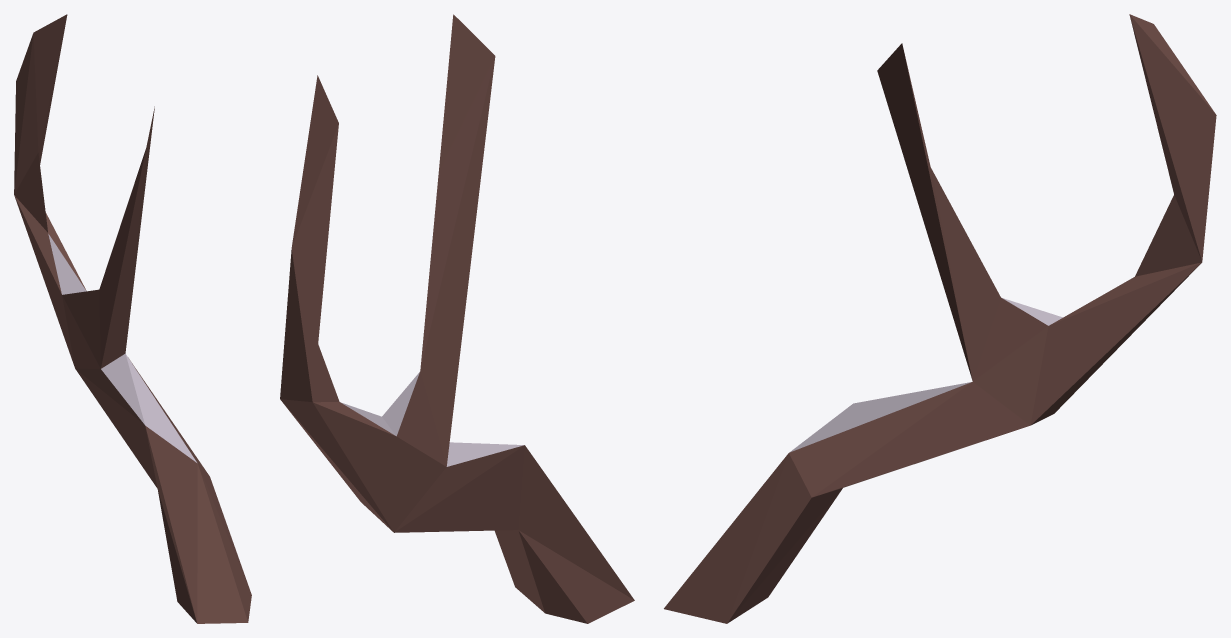
The model's file is Willow_Dead_Snow_3.lod3.glb.
3 renders of one model, left to right at view 1: azimuth 30°, elevation 25°; view 2: azimuth 150°, elevation 25°; view 3: azimuth 270°, elevation 25°, orthographic. The views are drawn at different scales.
Parts seen in each view (by area): view 1: Willow_Dead_Snow_3; view 2: Willow_Dead_Snow_3; view 3: Willow_Dead_Snow_3.
Boxes of the visible parts, x1,y1,x2,y2 form: Willow_Dead_Snow_3: (14,14,251,623); Willow_Dead_Snow_3: (280,14,634,623); Willow_Dead_Snow_3: (664,14,1216,623).
Size of the model in its own units: 0.2844 by 1.89 by 1.59.
